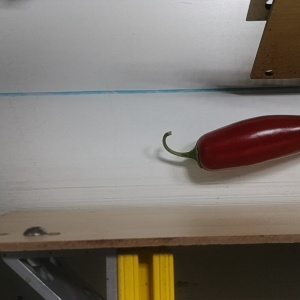Cut Point: (186, 134, 214, 172)
